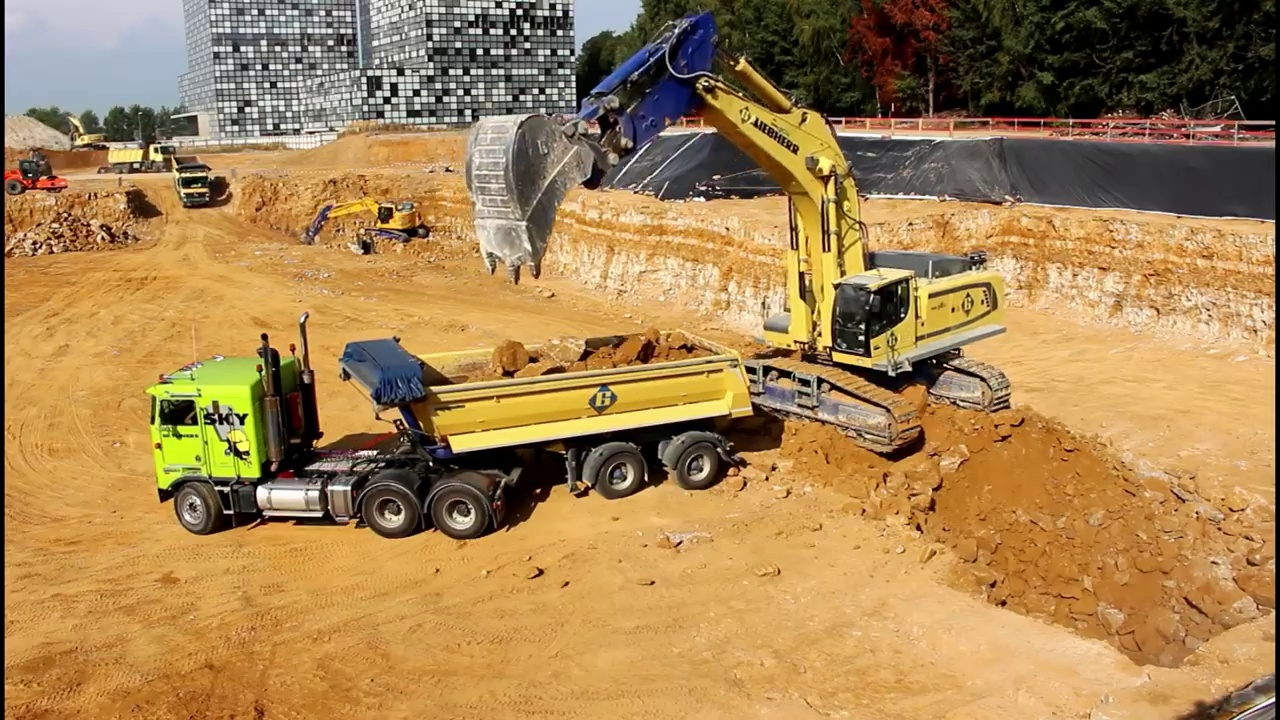compactor: (4, 159, 73, 200)
excavator: (461, 12, 1019, 461), (292, 193, 435, 261), (59, 112, 115, 155)
truck: (142, 307, 763, 544), (167, 151, 218, 209), (105, 141, 180, 174)
